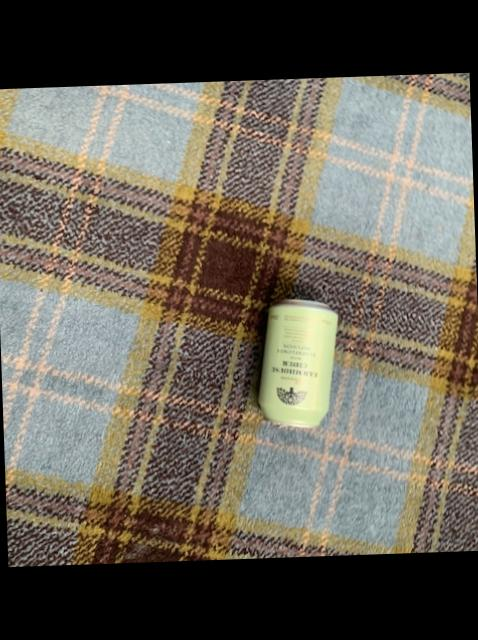metal: (260, 299, 338, 426)
